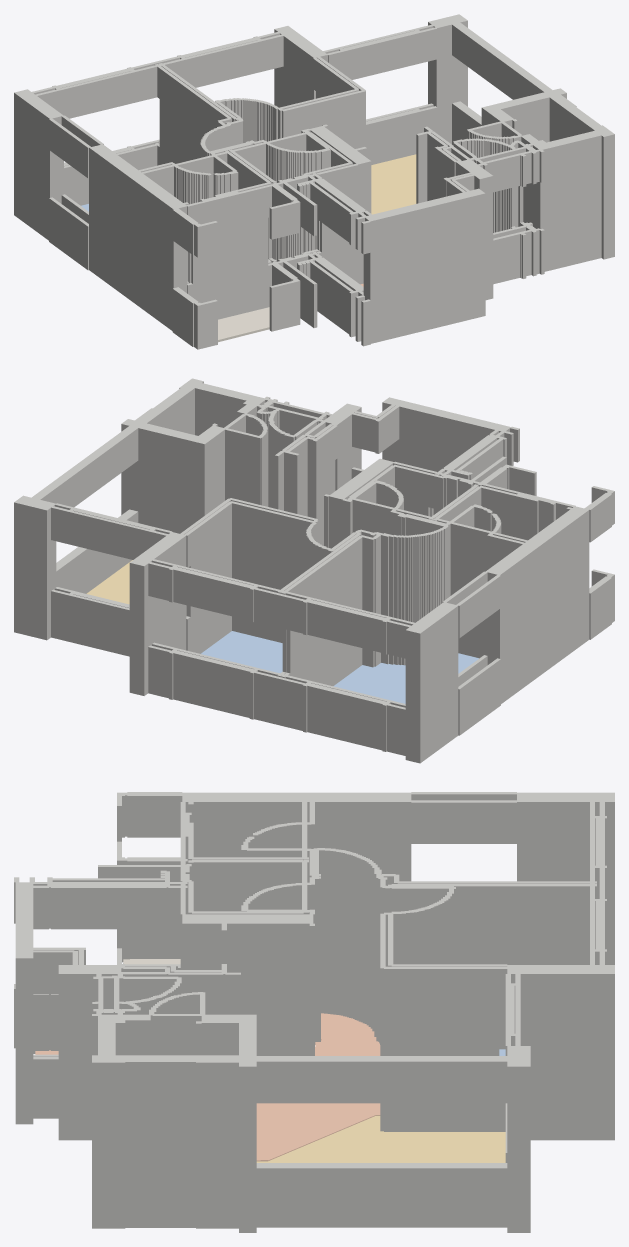
The picture shows the model from 3 angles, top to bottom: view 1: azimuth 30°, elevation 25°; view 2: azimuth 150°, elevation 25°; view 3: azimuth 270°, elevation 25°; orthographic projection. The views are drawn at different scales.
Parts seen in each view (by area): view 1: walls, room:living:2, room:other:13; view 2: walls, room:bedroom:0, room:bedroom:1, room:living:2; view 3: walls, room:kitchen:4, room:living:2.
Boxes of the visible parts, <box> form: walls: <box>14,14,614,349</box>; room:living:2: <box>371,154,416,214</box>; room:other:13: <box>218,307,269,342</box>; walls: <box>14,378,614,763</box>; room:bedroom:0: <box>333,653,478,703</box>; room:bedroom:1: <box>201,631,282,673</box>; room:living:2: <box>86,560,132,604</box>; walls: <box>14,792,614,1232</box>; room:kitchen:4: <box>256,1013,380,1161</box>; room:living:2: <box>256,1115,505,1162</box>.
Size of the model in its own units: 9.93 by 2.8 by 9.18.
